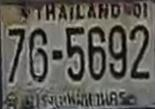2: (129, 24, 149, 79)
5: (66, 27, 84, 81)
6: (28, 28, 48, 83), (87, 26, 105, 79)
7: (8, 28, 25, 78)
9: (108, 25, 126, 78)
BKK: (25, 88, 127, 109)
